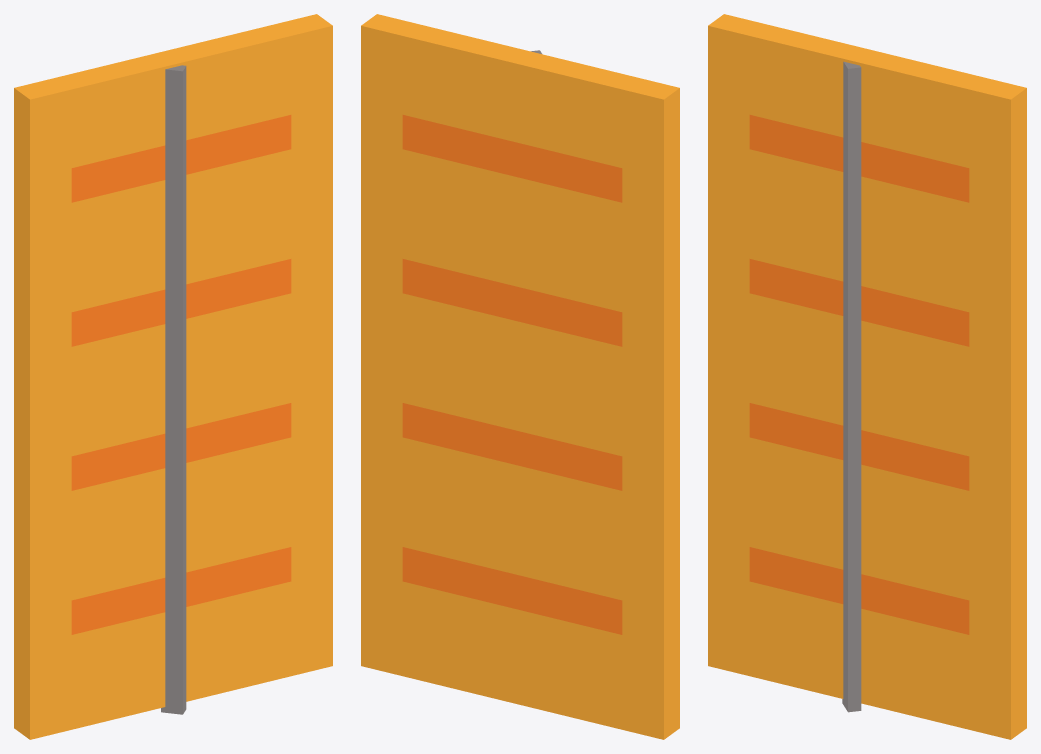
The model's file is cargo-shipping-door_L_orange.glb.
3 views of the same model, side by side, from view 1: azimuth 30°, elevation 25°; view 2: azimuth 150°, elevation 25°; view 3: azimuth 330°, elevation 25° (orthographic).
Visible parts, largest first — view 1: cargo-shipping-door_L_orange; view 2: cargo-shipping-door_L_orange; view 3: cargo-shipping-door_L_orange.
Part boxes in pixels (box(x1,y1,x2,y2)): cargo-shipping-door_L_orange: box(14, 14, 332, 739); cargo-shipping-door_L_orange: box(361, 14, 679, 739); cargo-shipping-door_L_orange: box(708, 14, 1026, 739).
Size of the model in its own units: 1.09 by 2.22 by 0.1398.
Materials: 1 (1 with a texture image).
